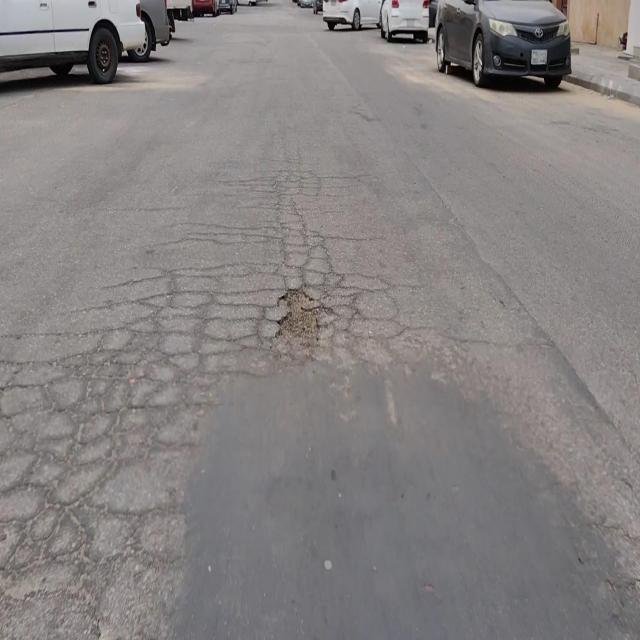Potholes: (271, 282, 335, 348)
